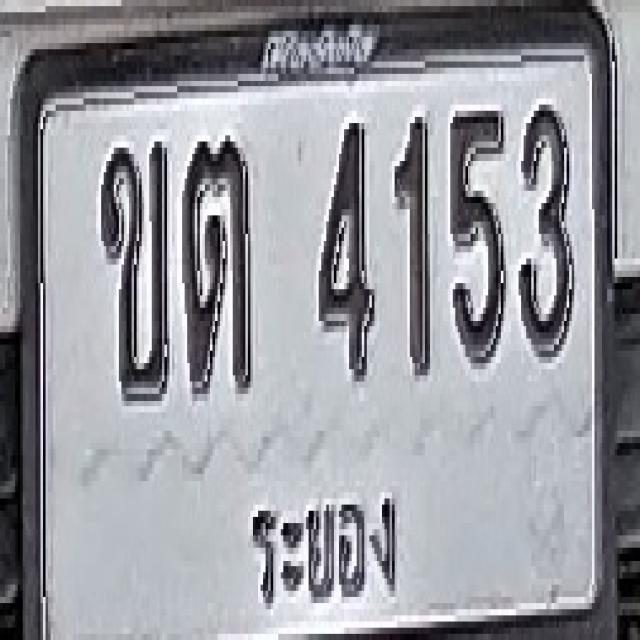1: (393, 111, 429, 375)
3: (518, 101, 572, 354)
4: (319, 117, 374, 381)
5: (452, 105, 504, 363)
A02: (101, 138, 170, 397)
A21: (183, 135, 252, 394)
RYG: (244, 459, 406, 629)
